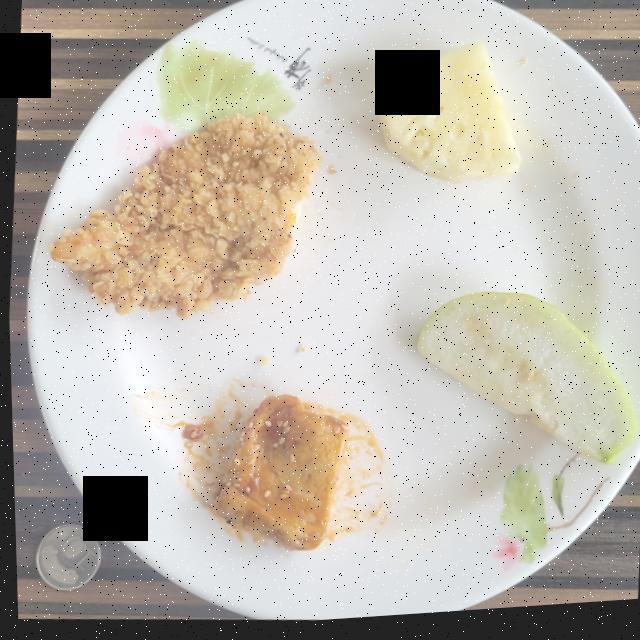coin: (32, 525, 97, 591)
creamy tofu: (210, 398, 346, 554)
fried chicken cutlet: (48, 117, 319, 321)
guava -sliced-: (415, 298, 635, 472)
pineapple: (372, 46, 519, 188)
